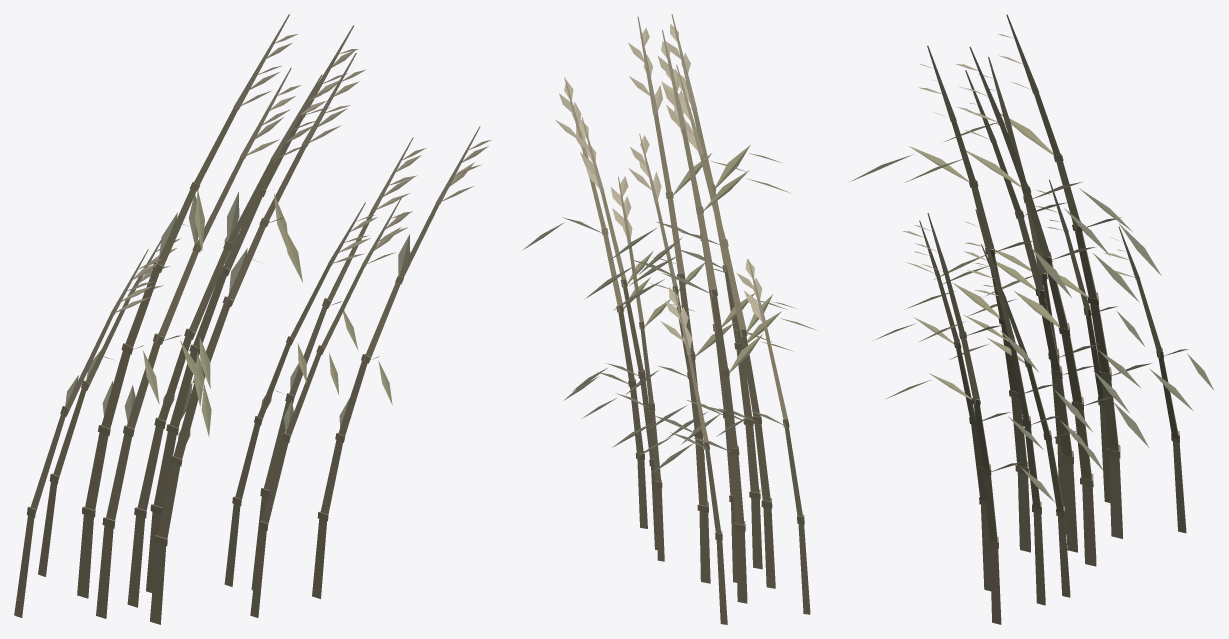
Rendered from shui.luweidang@subadult__winter.glb.
3 views of the same model, side by side, from view 1: azimuth 30°, elevation 25°; view 2: azimuth 150°, elevation 25°; view 3: azimuth 270°, elevation 25° (orthographic). The views are drawn at different scales.
Visible parts, largest first — view 1: shui.luweidang@subadult__winter; view 2: shui.luweidang@subadult__winter; view 3: shui.luweidang@subadult__winter.
Part boxes in pixels (x1,y1,x2,y2): shui.luweidang@subadult__winter: [14, 14, 491, 624]; shui.luweidang@subadult__winter: [523, 14, 816, 624]; shui.luweidang@subadult__winter: [850, 14, 1213, 624].
Size of the model in its own units: 1.65 by 2.41 by 1.34.
